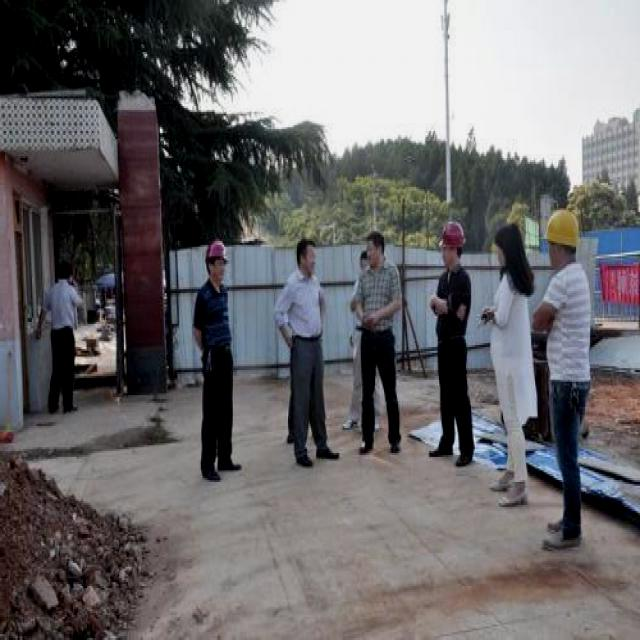hand_noglove: (360, 307, 382, 330)
head_helmet: (537, 207, 584, 252), (437, 220, 468, 251), (205, 240, 232, 264)
head_nohelmet: (494, 219, 524, 248), (297, 231, 319, 254), (53, 258, 73, 278), (364, 229, 386, 246)
person: (538, 207, 599, 555), (271, 227, 339, 476), (482, 214, 535, 516), (350, 219, 410, 465), (188, 233, 244, 491), (424, 209, 475, 482), (35, 255, 84, 419)
shoes: (539, 530, 583, 554), (495, 487, 531, 511), (193, 462, 225, 485), (216, 456, 247, 475), (452, 448, 477, 470), (289, 446, 312, 469), (427, 440, 454, 459), (316, 442, 343, 461), (384, 436, 404, 455), (356, 437, 377, 455)
